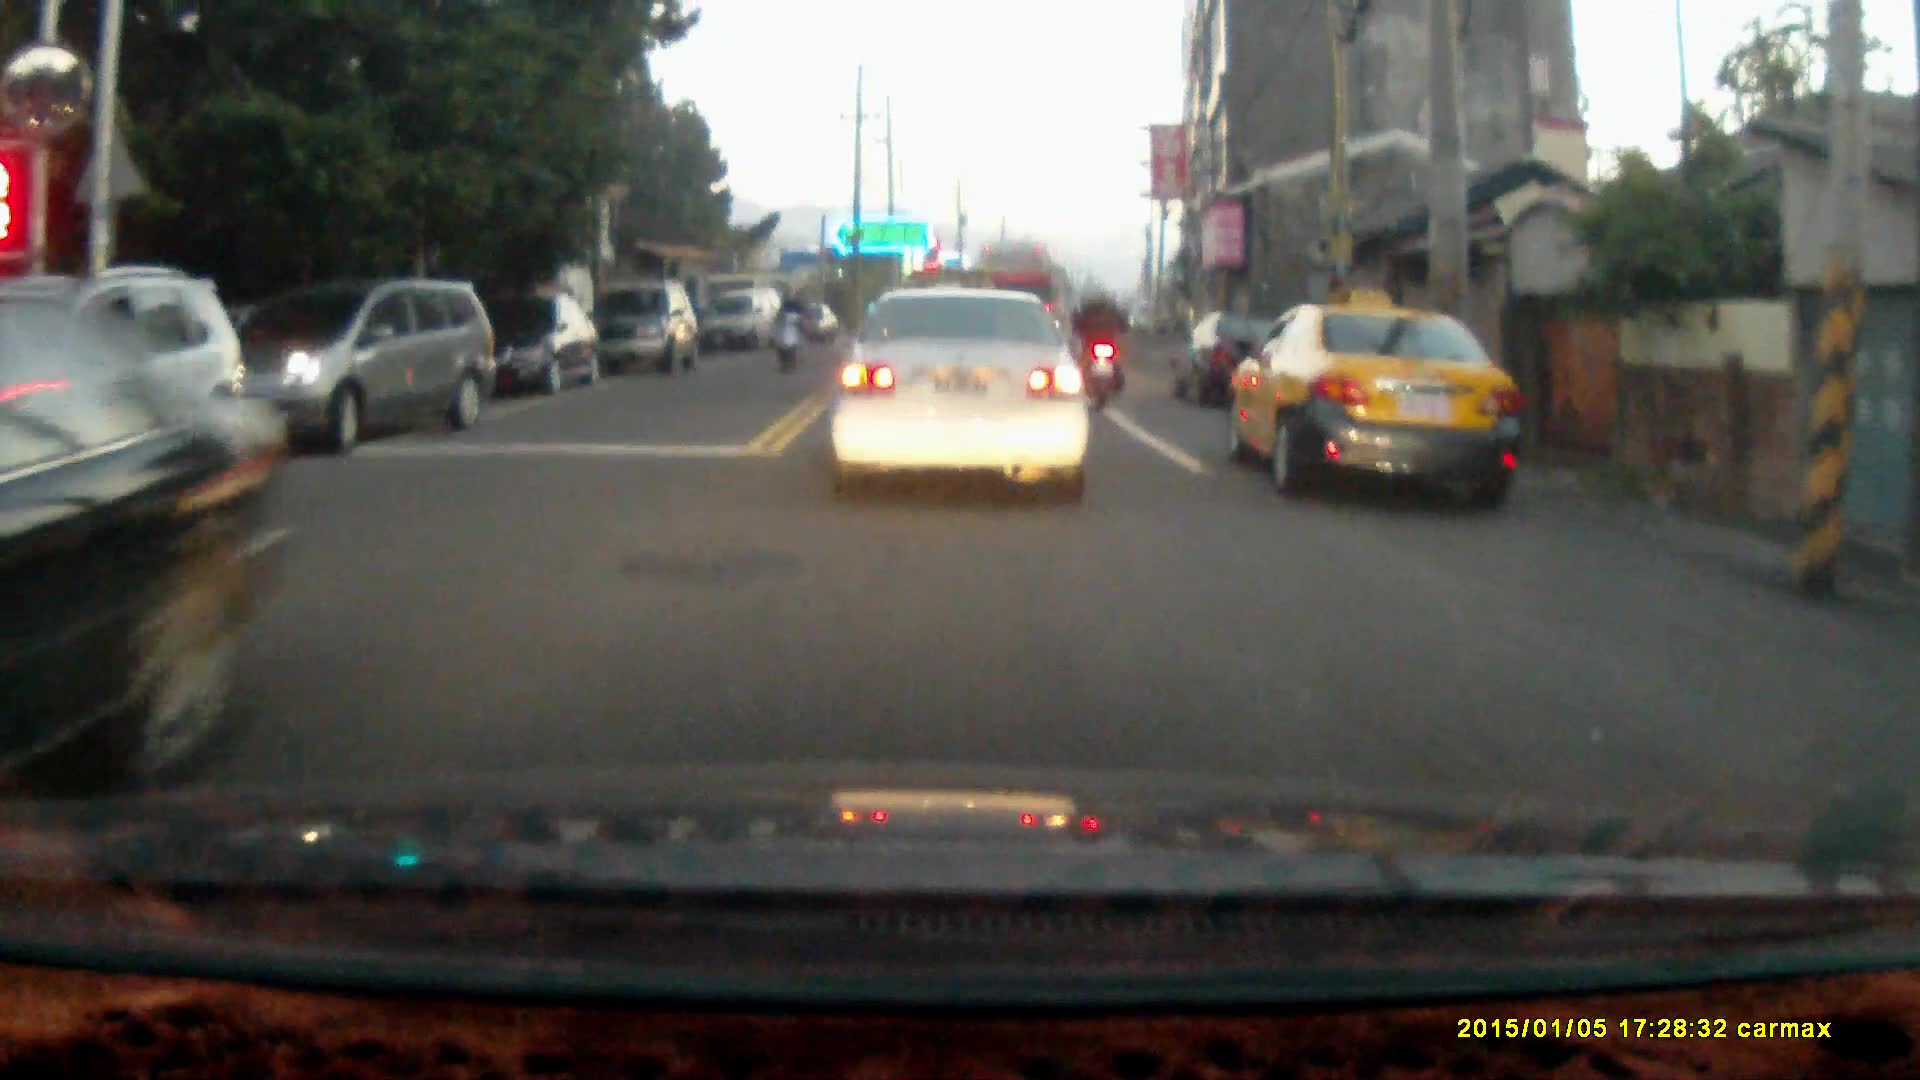rider: (1072, 279, 1131, 411), (771, 281, 805, 370)
vehicle: (1, 275, 300, 799), (1233, 299, 1526, 514), (828, 286, 1105, 500), (214, 276, 493, 451), (470, 294, 602, 401), (592, 277, 698, 373), (707, 285, 787, 357)
